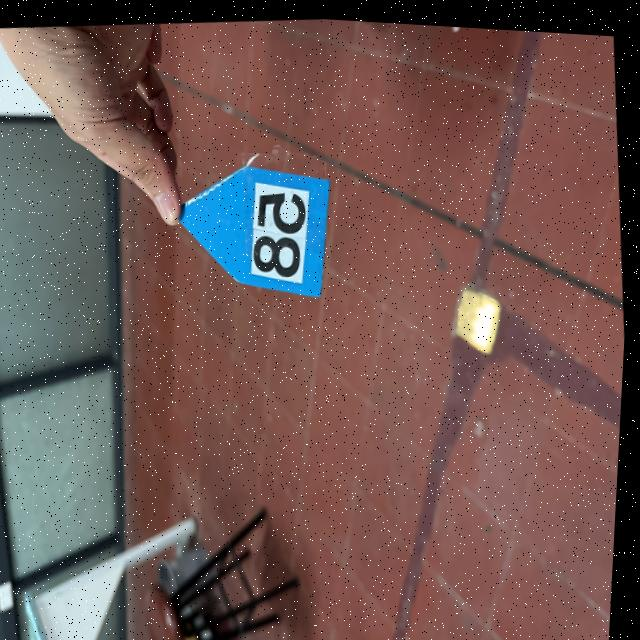board: (171, 160, 331, 294)
